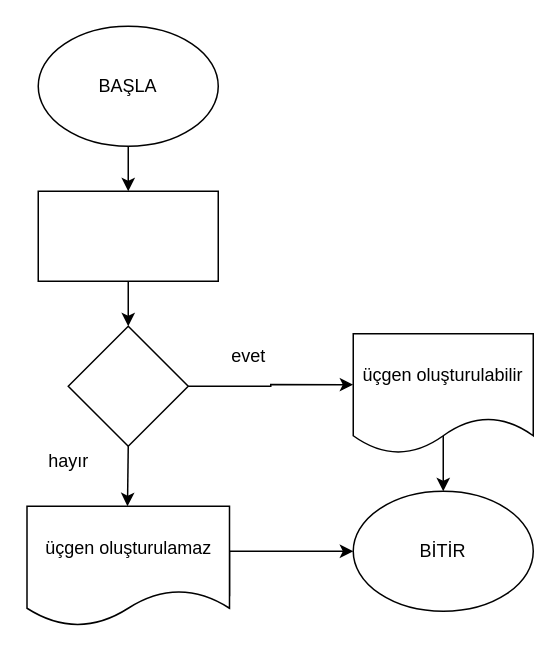
Image size: 560x653. Some labels were removed from this diagram. Here are the shapes that lost their labels. From the top down, the centre of each, then its label:
(127,235): "3 sayı gir"(a,b,c)
(127,385): a + b > c a + c > b b + c > a
